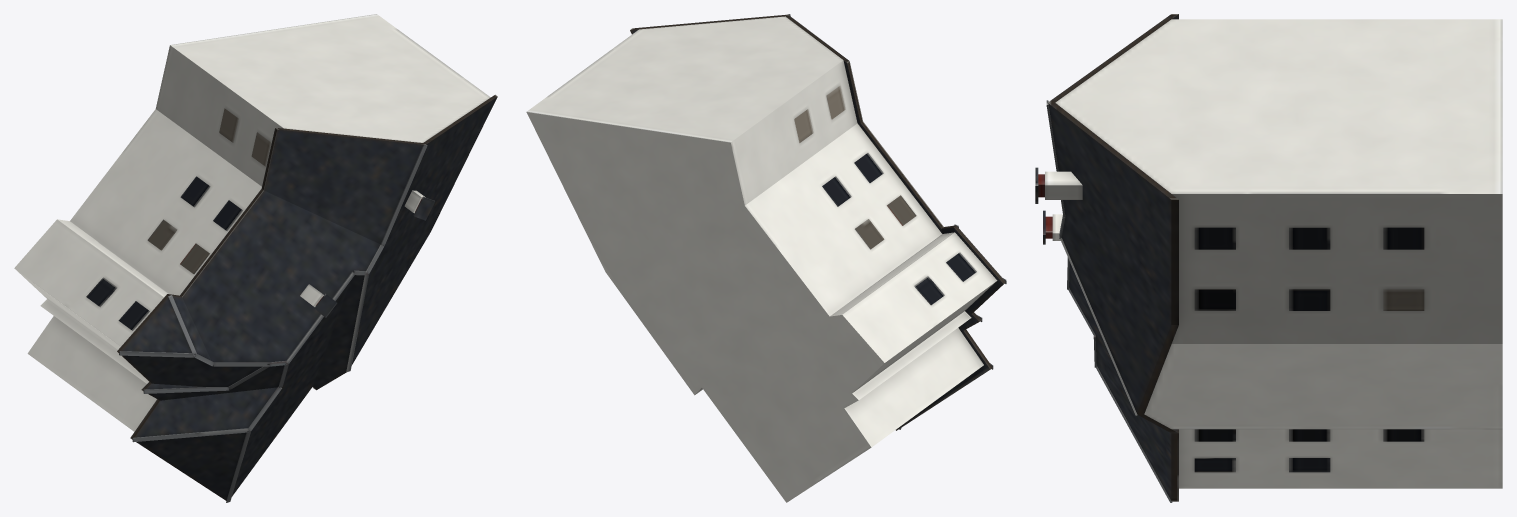
The model's file is house_b0200.obj.
3 views of the same model, side by side, from view 1: azimuth 30°, elevation 25°; view 2: azimuth 150°, elevation 25°; view 3: azimuth 270°, elevation 25° (orthographic). The views are drawn at different scales.
Parts seen in each view (by area): view 1: house_b0200; view 2: house_b0200; view 3: house_b0200.
Part boxes in pixels (x1,y1,x2,y2): house_b0200: [14, 14, 497, 502]; house_b0200: [526, 14, 1006, 502]; house_b0200: [1035, 14, 1502, 502].
Size of the model in its own units: 20.19 by 18.38 by 14.88.
1 material, 1 textured.
